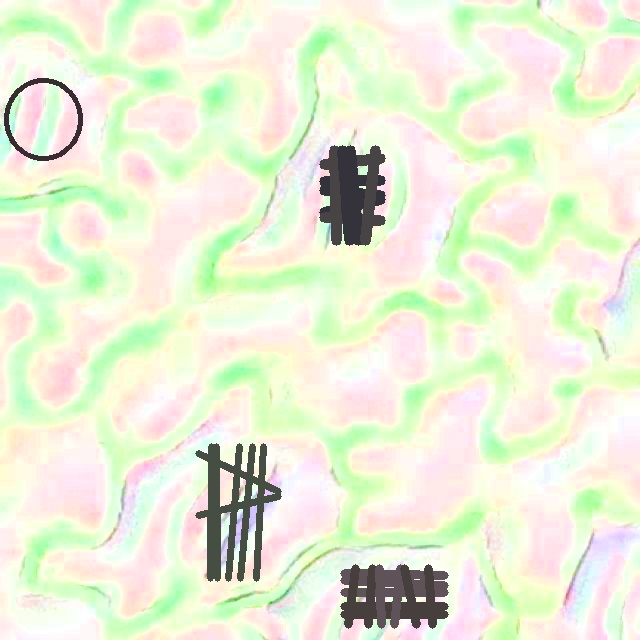close: (2, 77, 84, 161)
open: (196, 443, 280, 580), (340, 565, 447, 628), (320, 146, 384, 245)
